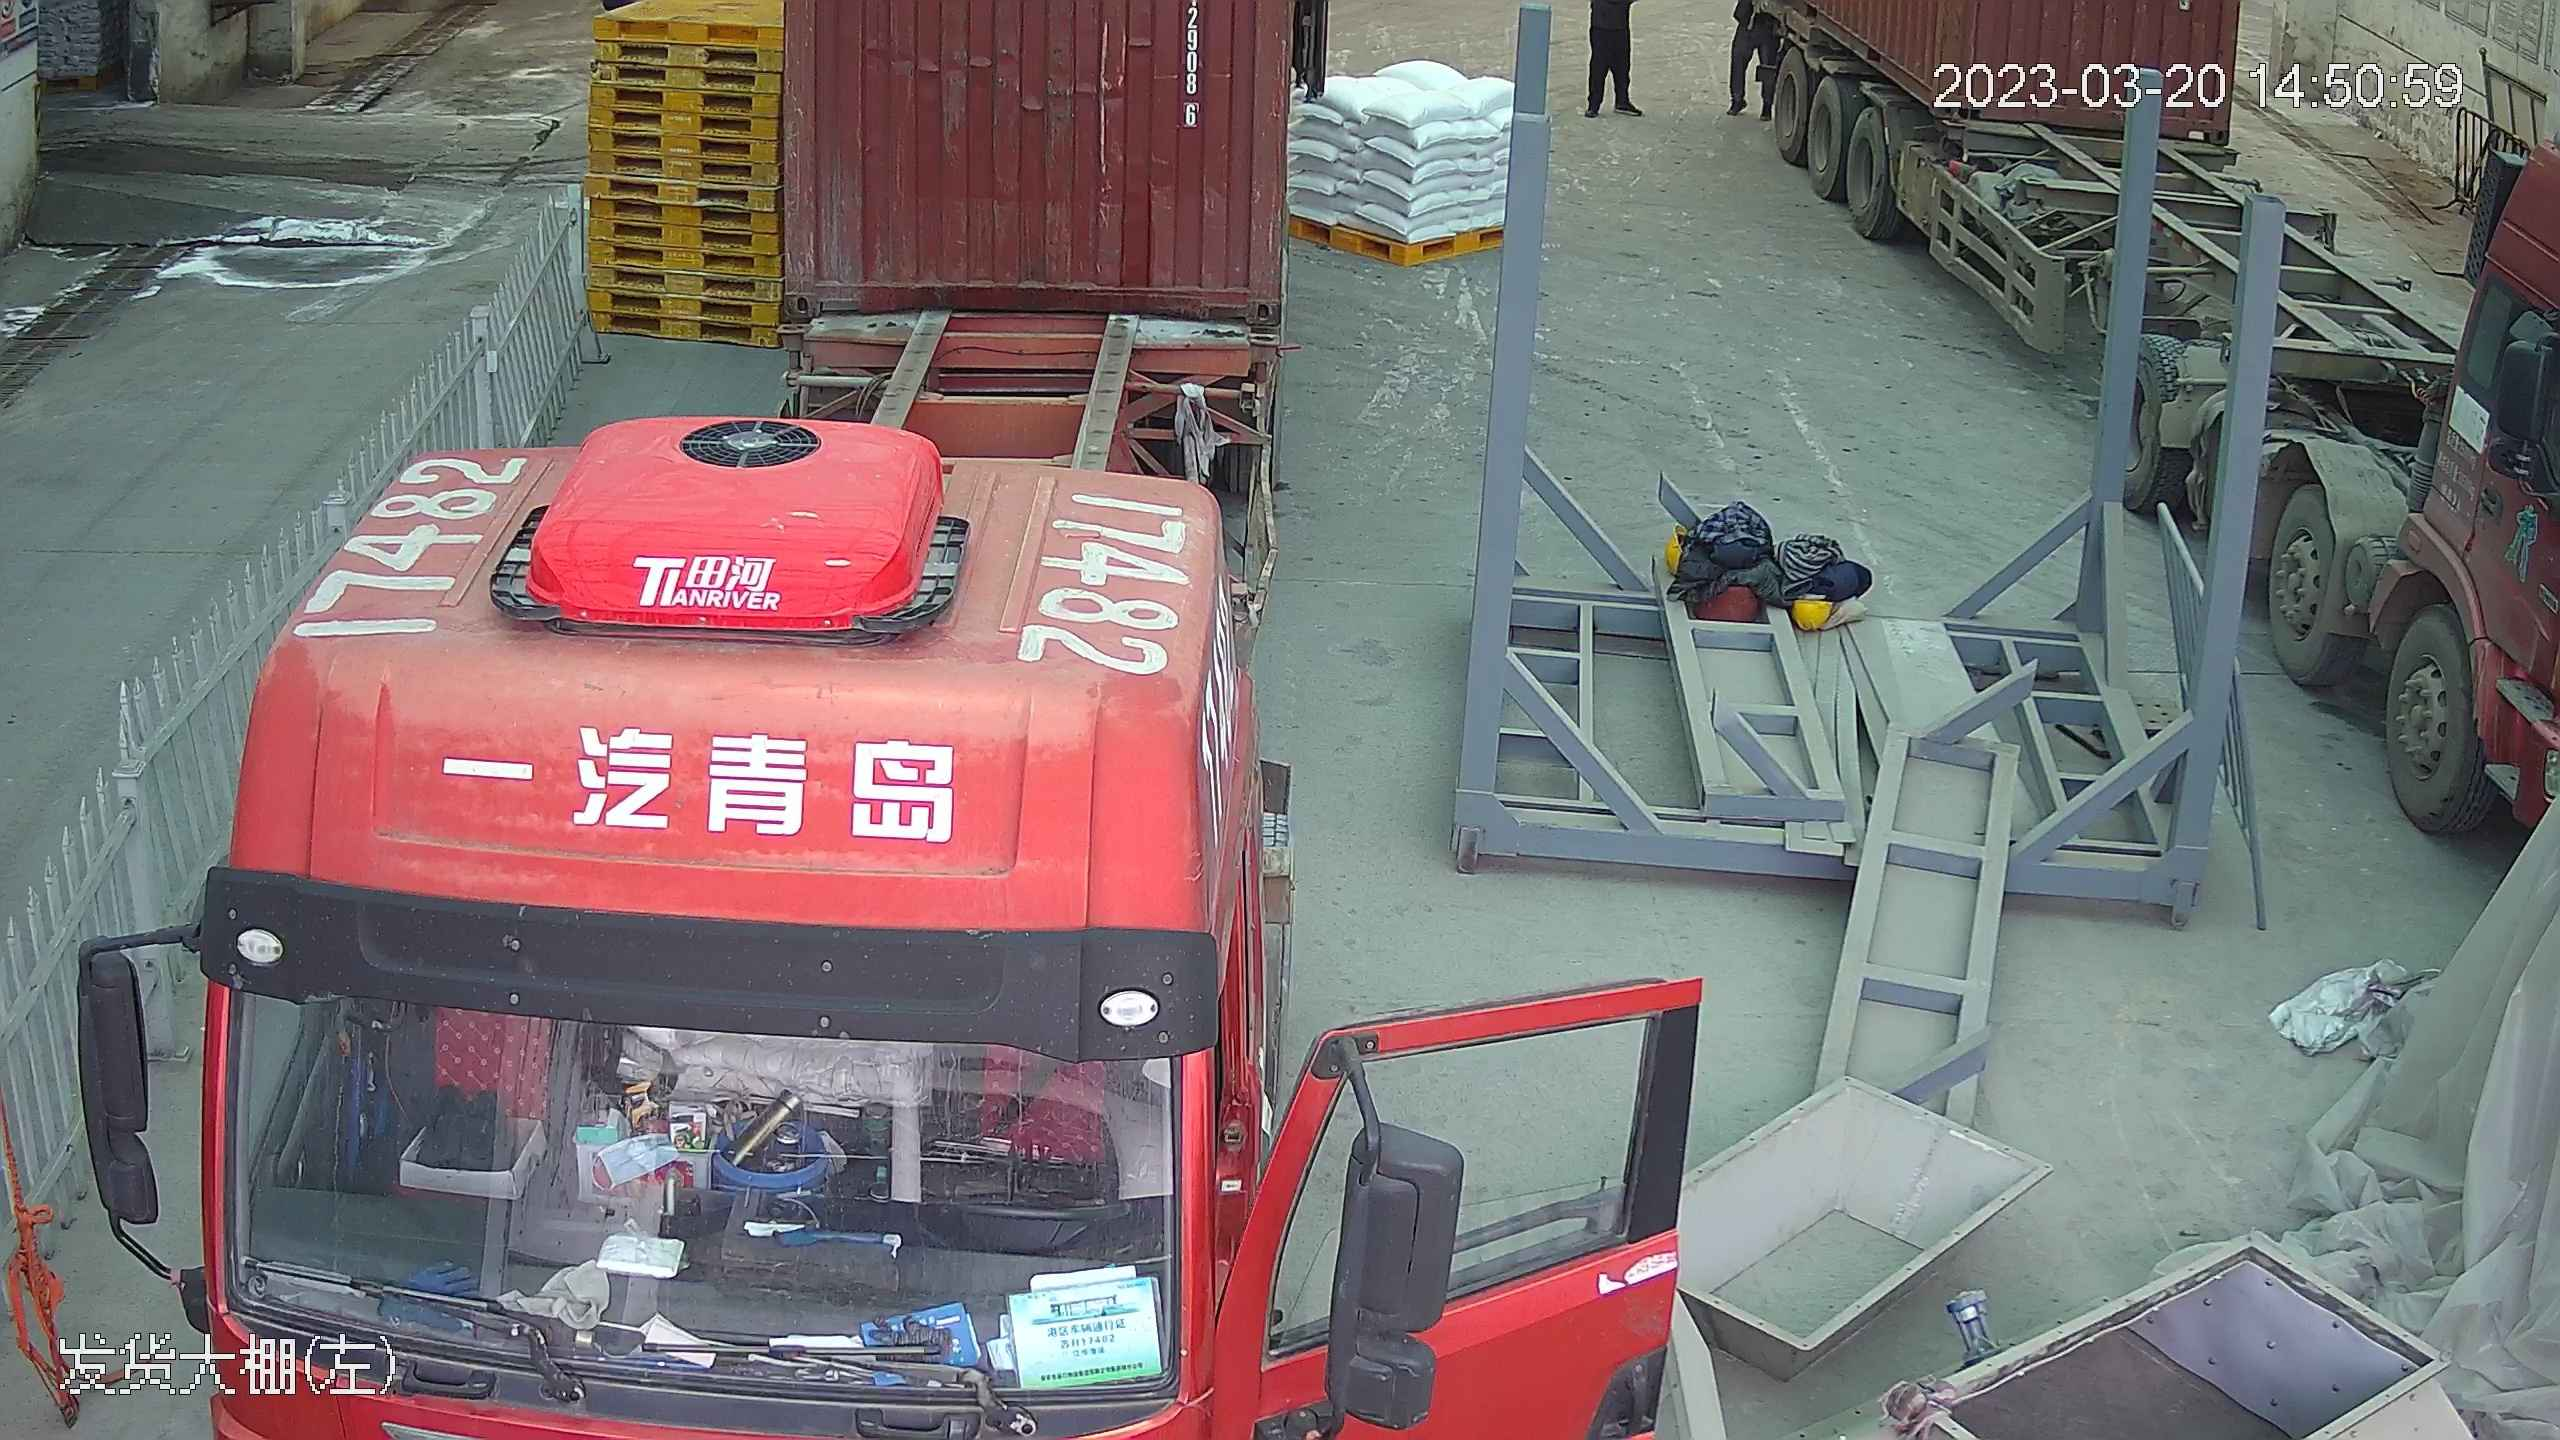people: (1571, 0, 1643, 119)
truck: (52, 0, 1301, 1440)
